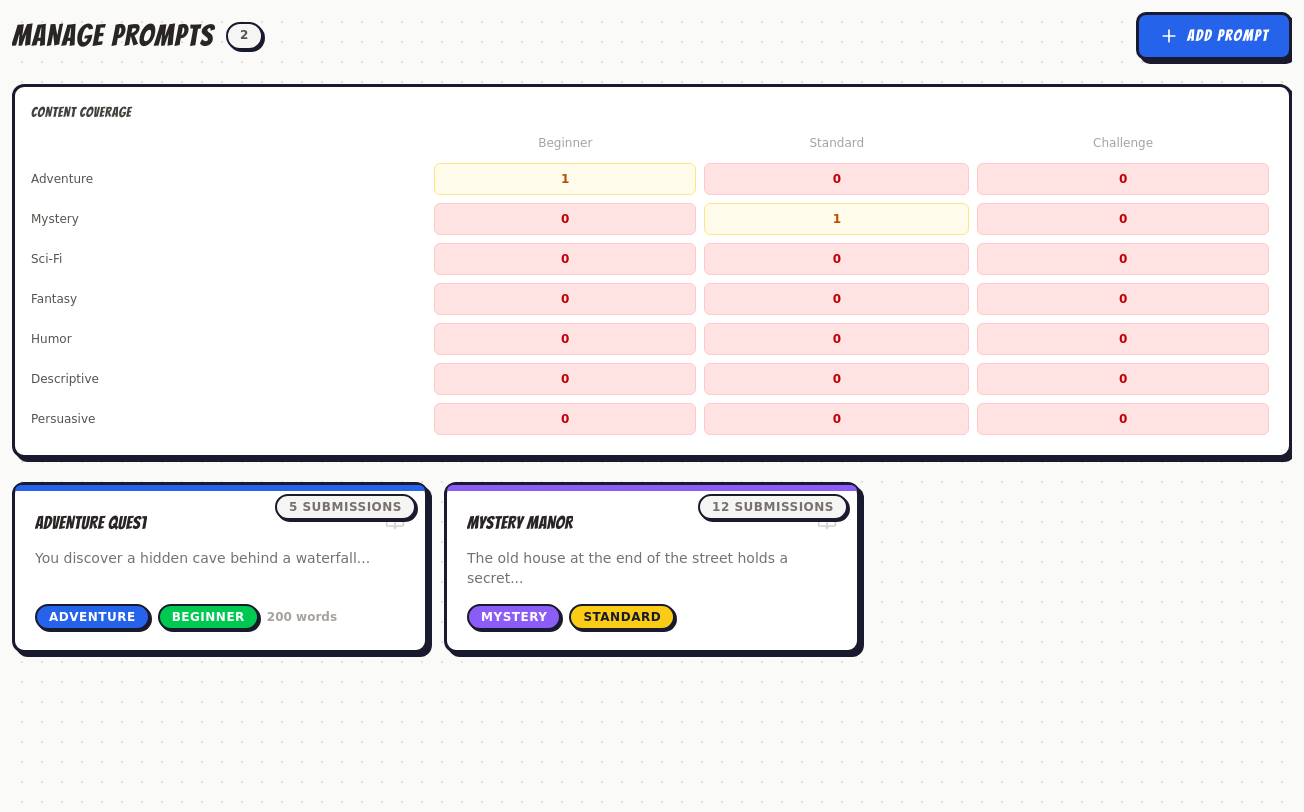
AdminPrompts › Heatmap › toggles filter off when same cell clicked again
Expected: the heading "Adventure Quest" is shown, [35,511,148,536]
Step 1. Click the button named "adventure beginner: 1 prompts" → click(565, 179), box [434,163,696,195]
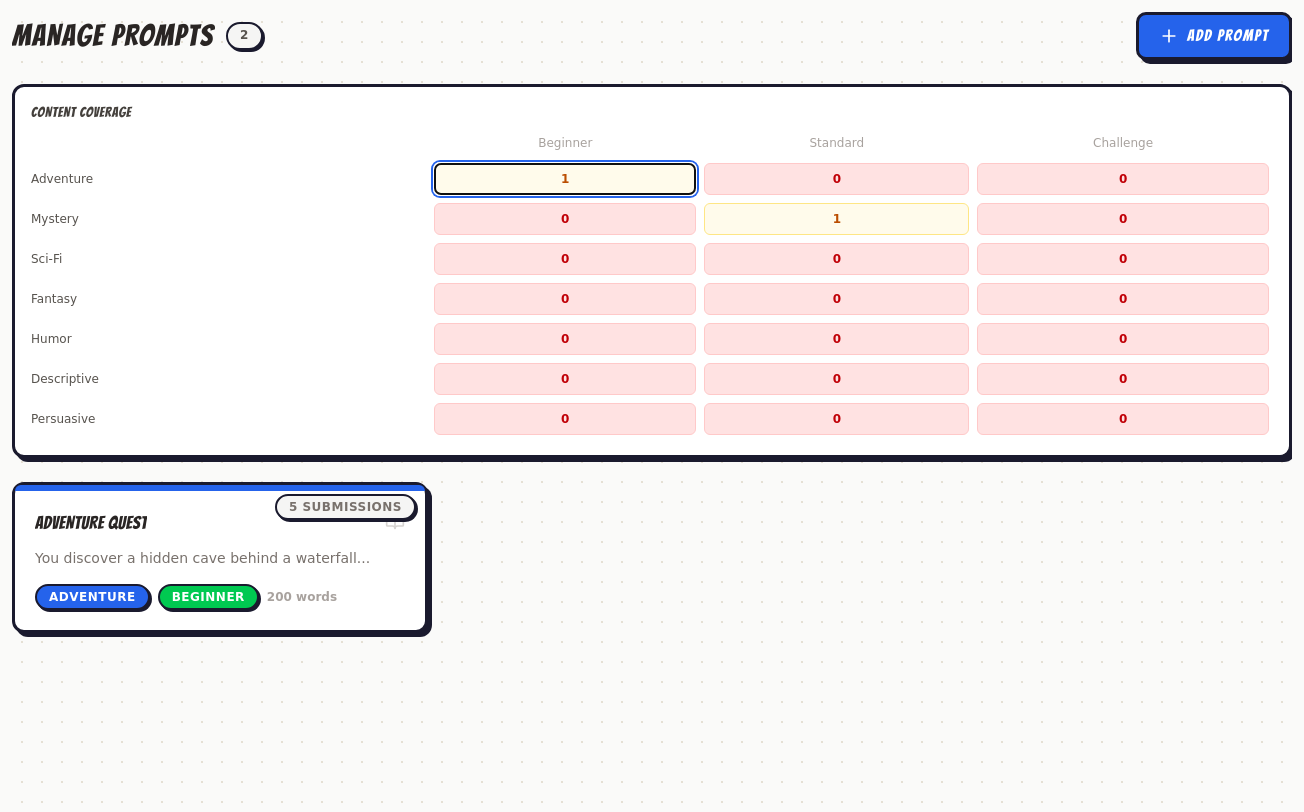
Expected: the heading "Mystery Manor" is gone
Step 2. Click the button named "adventure beginner: 1 prompts" → click(565, 179), box [434,163,696,195]
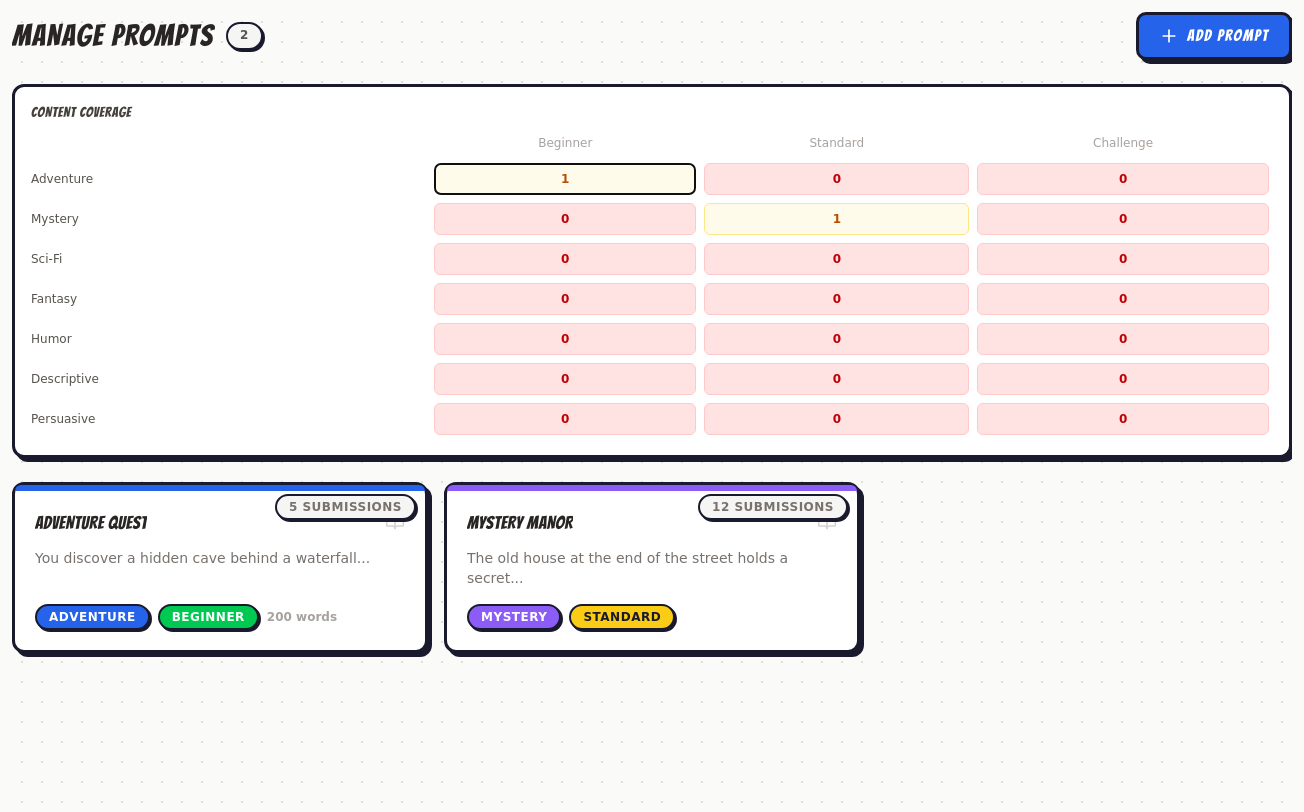
Expected: the heading "Mystery Manor" is shown, [467,511,573,536]
